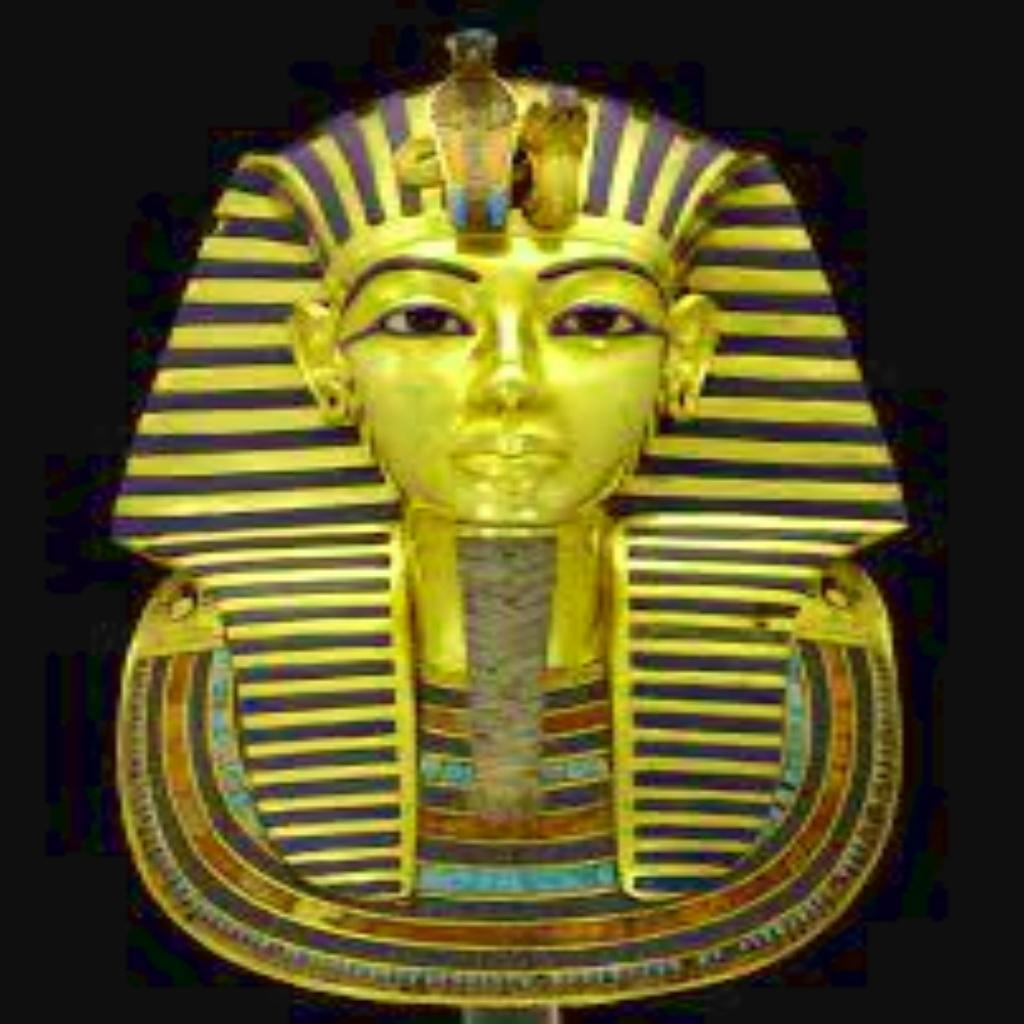Mask of Tutankhamun: (102, 24, 918, 1008)
